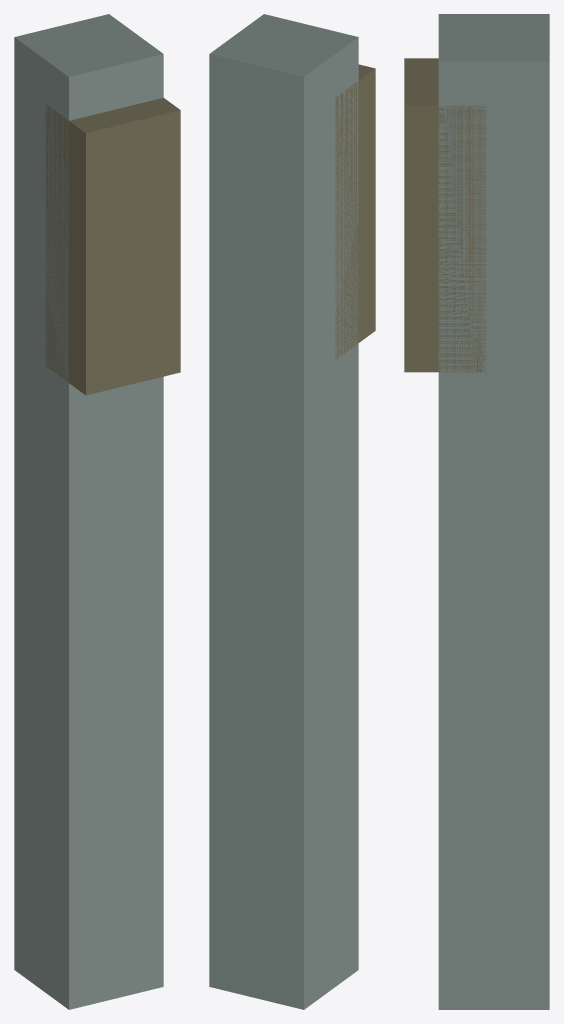
Rendered from SM_Semaforo_v0_Simple_LOD1.fbx.
The picture shows the model from 3 angles, left to right: view 1: azimuth 30°, elevation 25°; view 2: azimuth 150°, elevation 25°; view 3: azimuth 270°, elevation 25°; orthographic projection.
Parts seen in each view (by area): view 1: SM_urbano_extra_v20_LOD1; view 2: SM_urbano_extra_v20_LOD1; view 3: SM_urbano_extra_v20_LOD1.
Part boxes in pixels (x1=…): SM_urbano_extra_v20_LOD1: x1=14, y1=14, x2=180, y2=1009; SM_urbano_extra_v20_LOD1: x1=209, y1=14, x2=375, y2=1009; SM_urbano_extra_v20_LOD1: x1=404, y1=14, x2=549, y2=1009.
Size of the model in its own units: 0.34 by 3.2 by 0.445.
